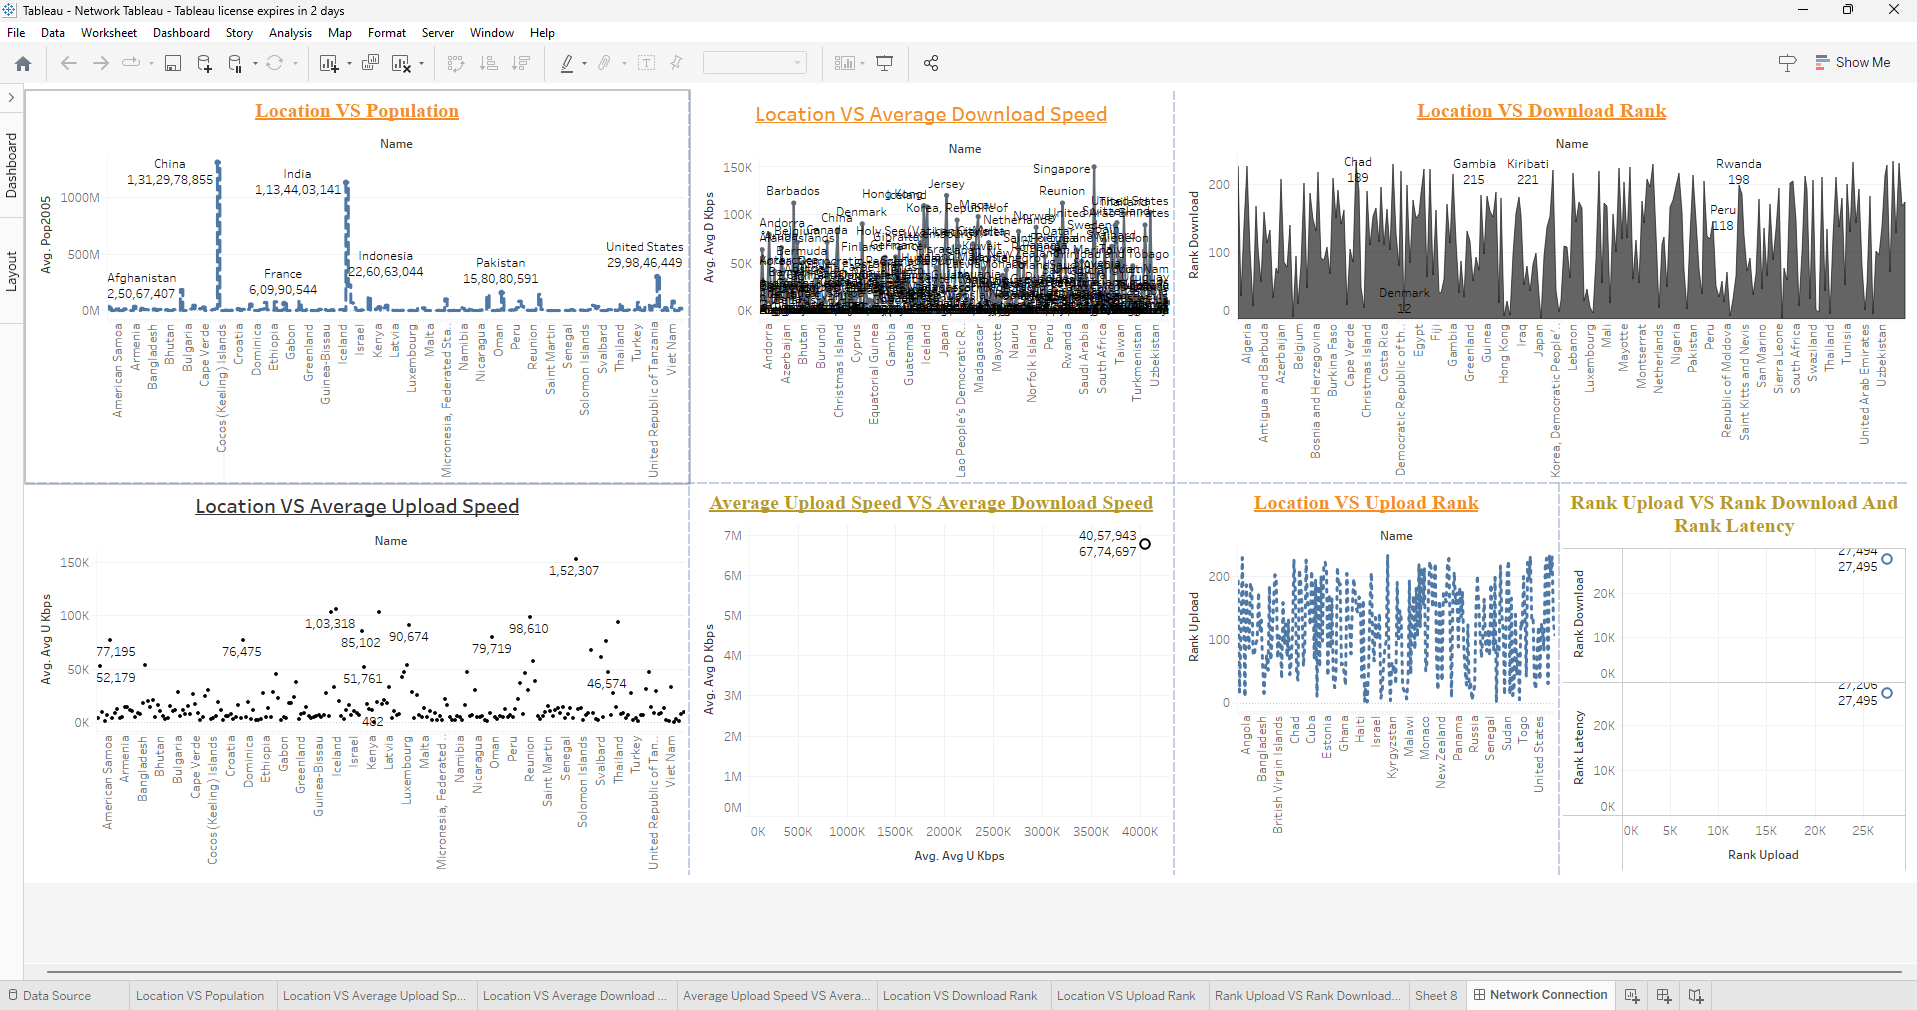

This screenshot's page, from the dashboard's own definition file:
{"tool":"tableau","page":{"name":"Network Connection","canvas":[1900,800],"ordinal":0},"visuals":[{"type":"worksheet","title":"Location VS Population","mark":"Line","rows":["Avg. Pop2005"],"cols":["Name"],"box":[8,8,663,392]},{"type":"worksheet","title":"Location VS Average Download Speed","mark":"Line","rows":["Avg. Avg D Kbps"],"cols":["Name"],"box":[671,8,485,392]},{"type":"worksheet","title":"Location VS Download Rank","mark":"Area","rows":["Rank Download"],"cols":["Name"],"box":[1156,8,736,392]},{"type":"worksheet","title":"Location VS Average Upload Speed","mark":"Shape","rows":["Avg. Avg U Kbps"],"cols":["Name"],"box":[8,400,663,392]},{"type":"worksheet","title":"Average Upload Speed VS Average Download Speed","mark":"Automatic","rows":["Avg. Avg D Kbps"],"cols":["Avg. Avg U Kbps"],"box":[671,400,485,392]},{"type":"worksheet","title":"Location VS Upload Rank","mark":"Line","rows":["Rank Upload"],"cols":["Name"],"box":[1156,400,385,392]},{"type":"worksheet","title":"Rank Upload VS Rank Download And Rank Latency","mark":"Automatic","rows":["Rank Download","Rank Latency"],"cols":["Rank Upload"],"box":[1541,400,351,392]}]}

Visuals, with their boxes on the page's 1900x800 design canvas (x1, y1, x2, y2). These are canvas units, not pixel positions in the 1917x1010 screenshot, which may show the page scaled, cropped or inside an application window:
"Location VS Population" worksheet (Line marks): [8, 8, 671, 400]
"Location VS Average Download Speed" worksheet (Line marks): [671, 8, 1156, 400]
"Location VS Download Rank" worksheet (Area marks): [1156, 8, 1892, 400]
"Location VS Average Upload Speed" worksheet (Shape marks): [8, 400, 671, 792]
"Average Upload Speed VS Average Download Speed" worksheet: [671, 400, 1156, 792]
"Location VS Upload Rank" worksheet (Line marks): [1156, 400, 1541, 792]
"Rank Upload VS Rank Download And Rank Latency" worksheet: [1541, 400, 1892, 792]
